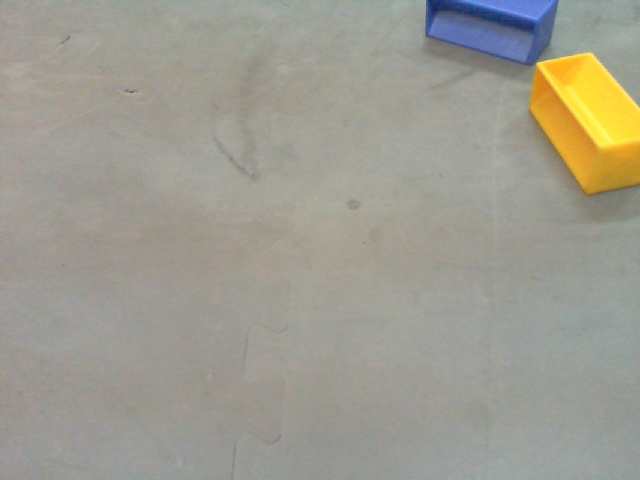BlueSample: (423, 1, 559, 66)
YellowSample: (526, 50, 640, 201)
